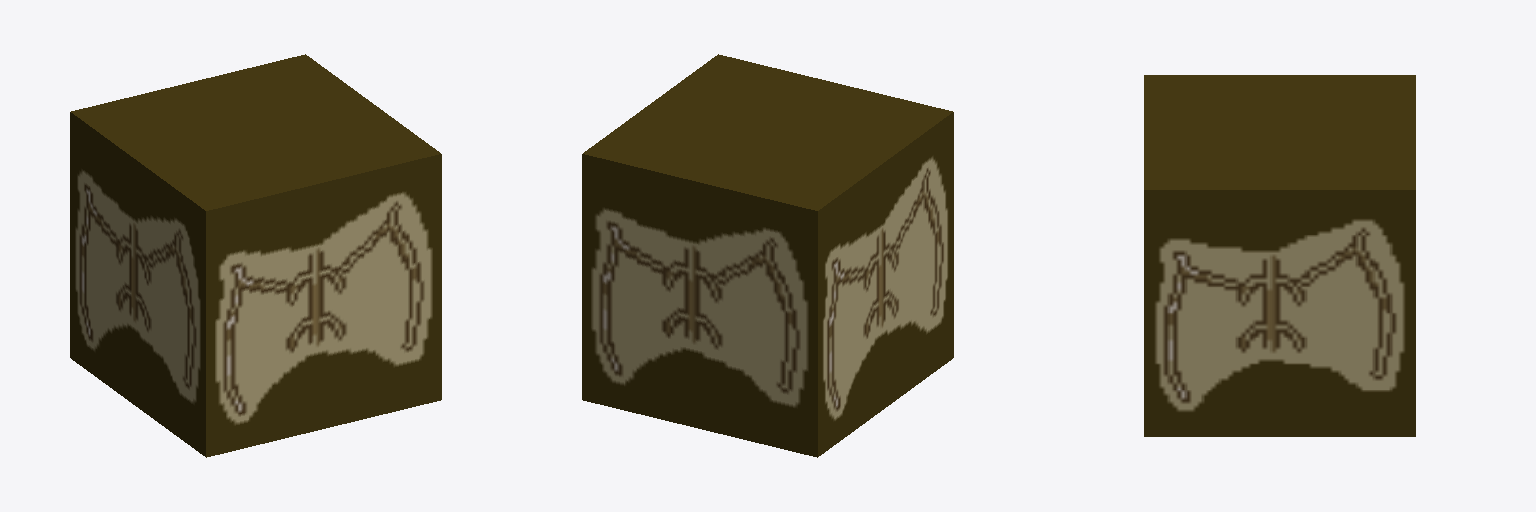
The picture shows the model from 3 angles: view 1: azimuth 30°, elevation 25°; view 2: azimuth 150°, elevation 25°; view 3: azimuth 270°, elevation 25°; orthographic projection.
Visible parts, largest first — view 1: Cube; view 2: Cube; view 3: Cube.
Boxes of the visible parts, x1,y1,x2,y2 form: Cube: [70, 54, 441, 457]; Cube: [582, 54, 953, 457]; Cube: [1144, 75, 1415, 436].
Bounding box in the file's own units: 2 × 2 × 2.
Materials: 1 (1 with a texture image).